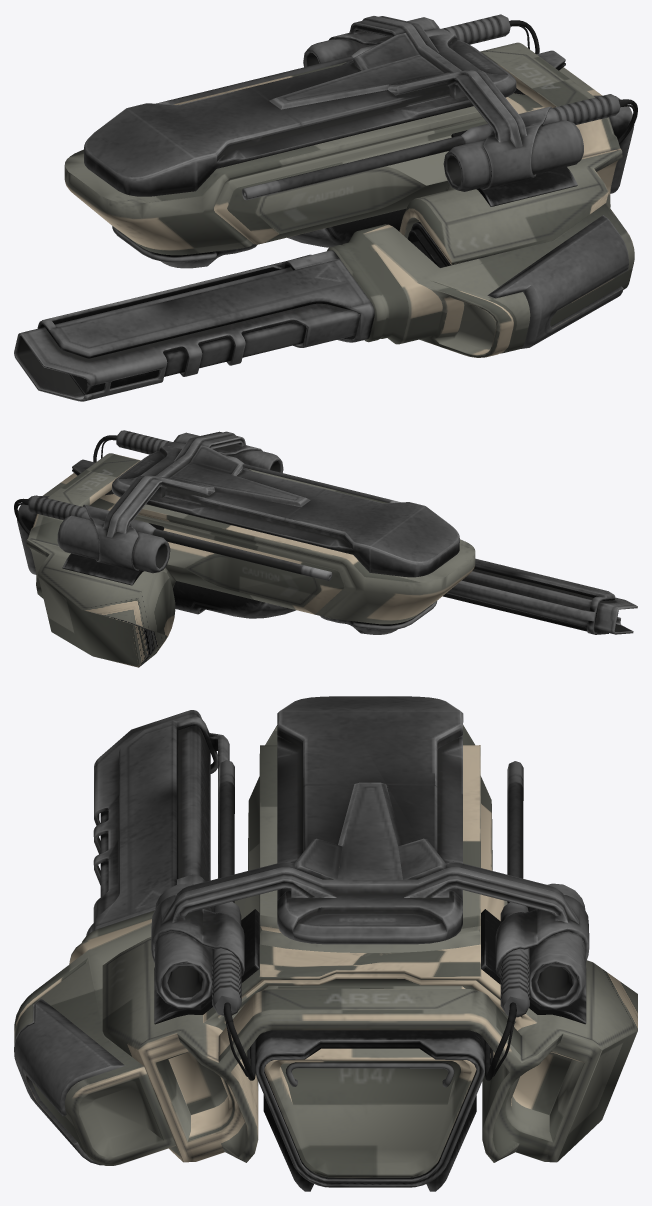
File: NewShip.fbx
3 views of the same model, one above another, from view 1: azimuth 30°, elevation 25°; view 2: azimuth 150°, elevation 25°; view 3: azimuth 270°, elevation 25° (orthographic). The views are drawn at different scales.
Parts seen in each view (by area): view 1: spaceship; view 2: spaceship; view 3: spaceship.
Boxes of the visible parts, box(x1,y1,x2,y2) form: spaceship: box(14, 14, 637, 401); spaceship: box(14, 430, 637, 667); spaceship: box(14, 696, 637, 1191).
Bounding box in the file's own units: 127 × 38.48 × 81.82.
